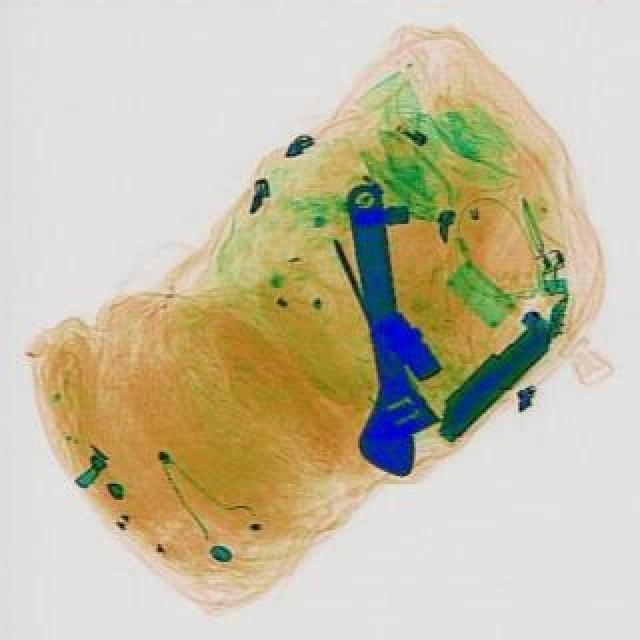scissors: (328, 180, 444, 480)
